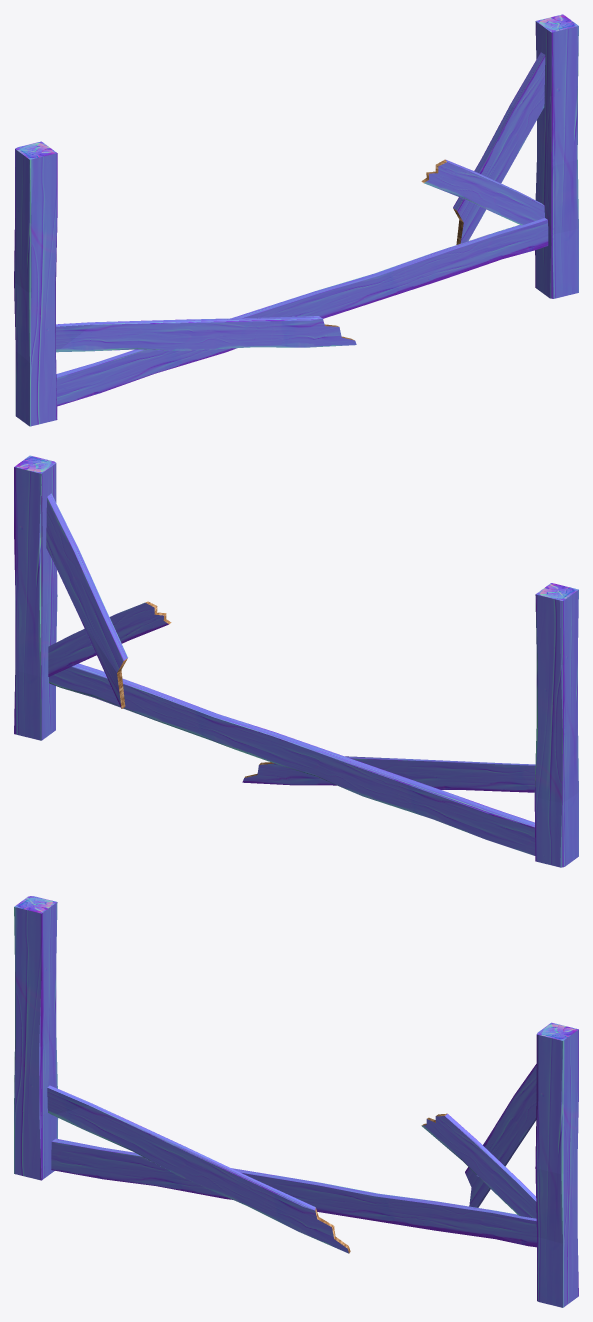
Rendered from SM_WoodenFence_B_03.fbx.
3 renders of one model, top to bottom at view 1: azimuth 30°, elevation 25°; view 2: azimuth 150°, elevation 25°; view 3: azimuth 330°, elevation 25°, orthographic.
Parts seen in each view (by area): view 1: SM_WoodenFence_B_03_LOD0; view 2: SM_WoodenFence_B_03_LOD0; view 3: SM_WoodenFence_B_03_LOD0.
Boxes of the visible parts, <box> form: SM_WoodenFence_B_03_LOD0: <box>14,14,578,426</box>; SM_WoodenFence_B_03_LOD0: <box>14,455,578,867</box>; SM_WoodenFence_B_03_LOD0: <box>14,896,578,1307</box>.
Bounding box in the file's own units: 263 × 123 × 13.57.
